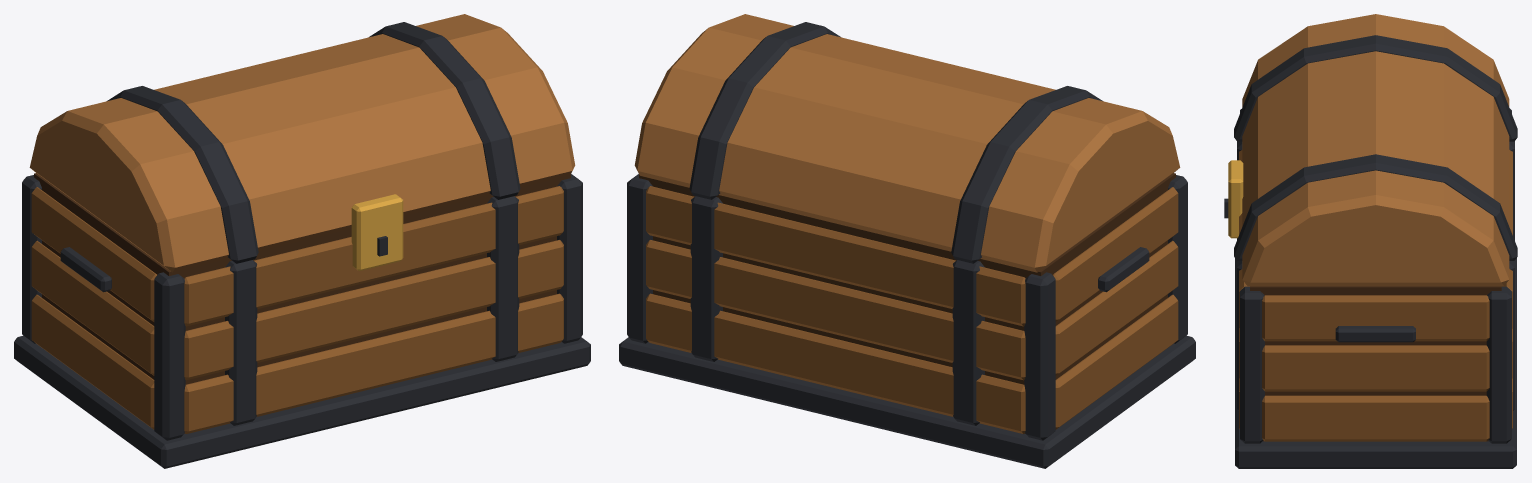
Rendered from Prop_Chest.fbx.
3 views of the same model, side by side, from view 1: azimuth 30°, elevation 25°; view 2: azimuth 150°, elevation 25°; view 3: azimuth 270°, elevation 25° (orthographic). The views are drawn at different scales.
Visible parts, largest first — view 1: Prop_Chest; view 2: Prop_Chest; view 3: Prop_Chest.
Part boxes in pixels (x1,y1,x2,y2): Prop_Chest: (14, 14, 590, 468); Prop_Chest: (619, 14, 1195, 468); Prop_Chest: (1224, 14, 1517, 468).
Size of the model in its own units: 0.949 by 0.6 by 0.5827.
